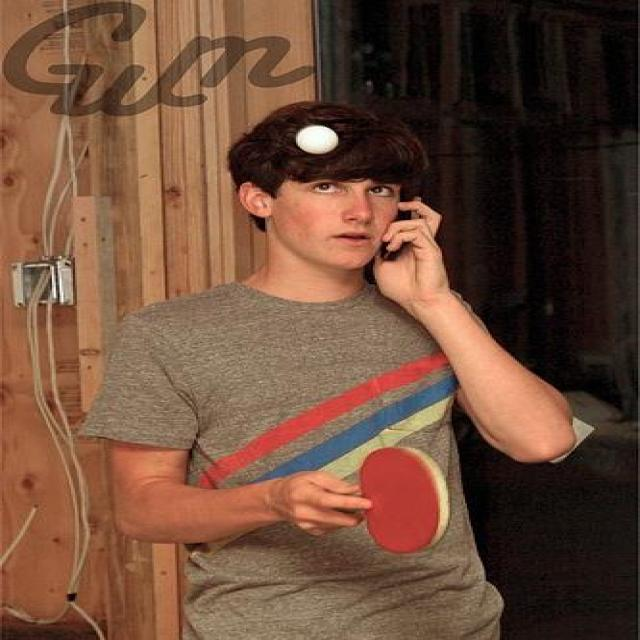ping-pong-ball: (294, 125, 340, 154)
